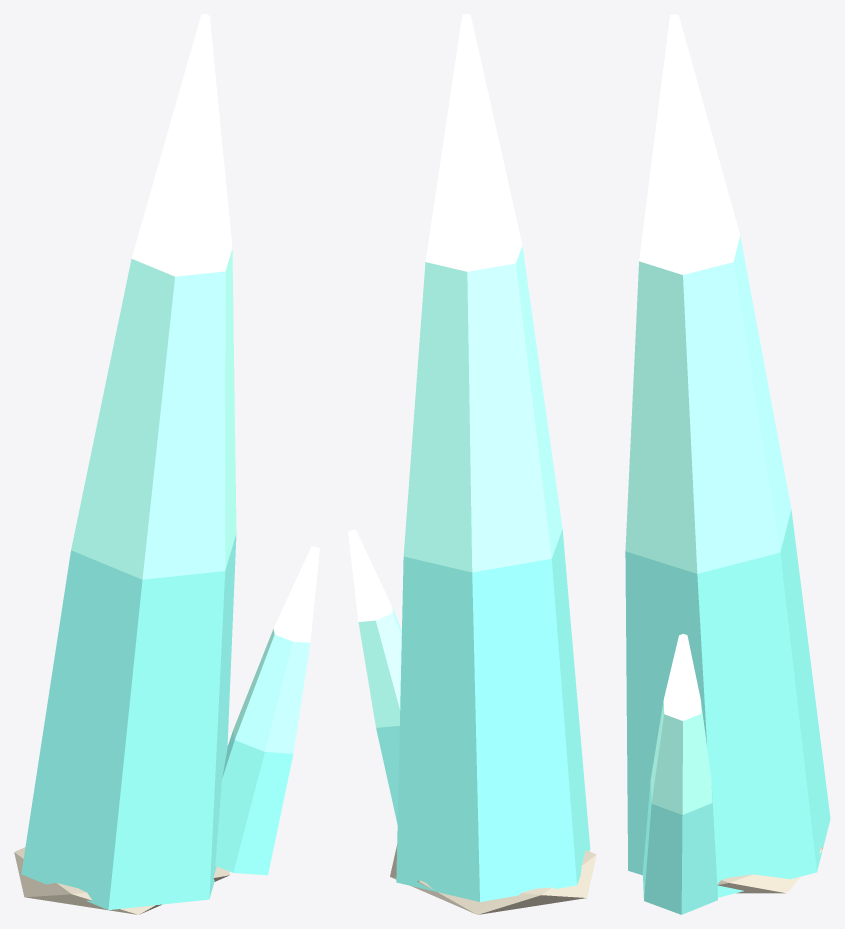
The model's file is saltglass_crystal_tall.glb.
The picture shows the model from 3 angles, left to right: view 1: azimuth 30°, elevation 25°; view 2: azimuth 150°, elevation 25°; view 3: azimuth 270°, elevation 25°; orthographic projection. The views are drawn at different scales.
Parts seen in each view (by area): view 1: saltglass_crystal_tall; view 2: saltglass_crystal_tall; view 3: saltglass_crystal_tall.
Part boxes in pixels (box(x1,y1,x2,y2)): saltglass_crystal_tall: box(14, 14, 319, 914); saltglass_crystal_tall: box(348, 14, 596, 914); saltglass_crystal_tall: box(625, 14, 830, 914).
Bounding box in the file's own units: 0.5153 × 1.58 × 0.3354.
